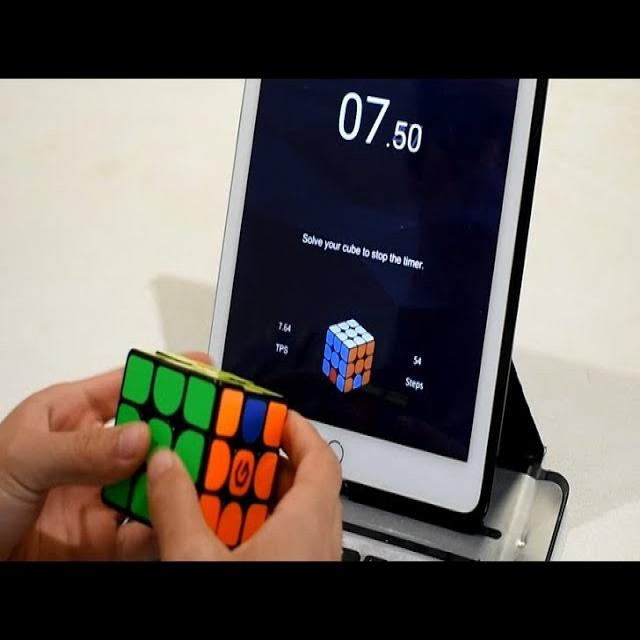cube: (118, 357, 280, 530)
